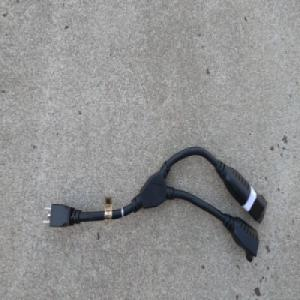Wire: (42, 145, 268, 263)
